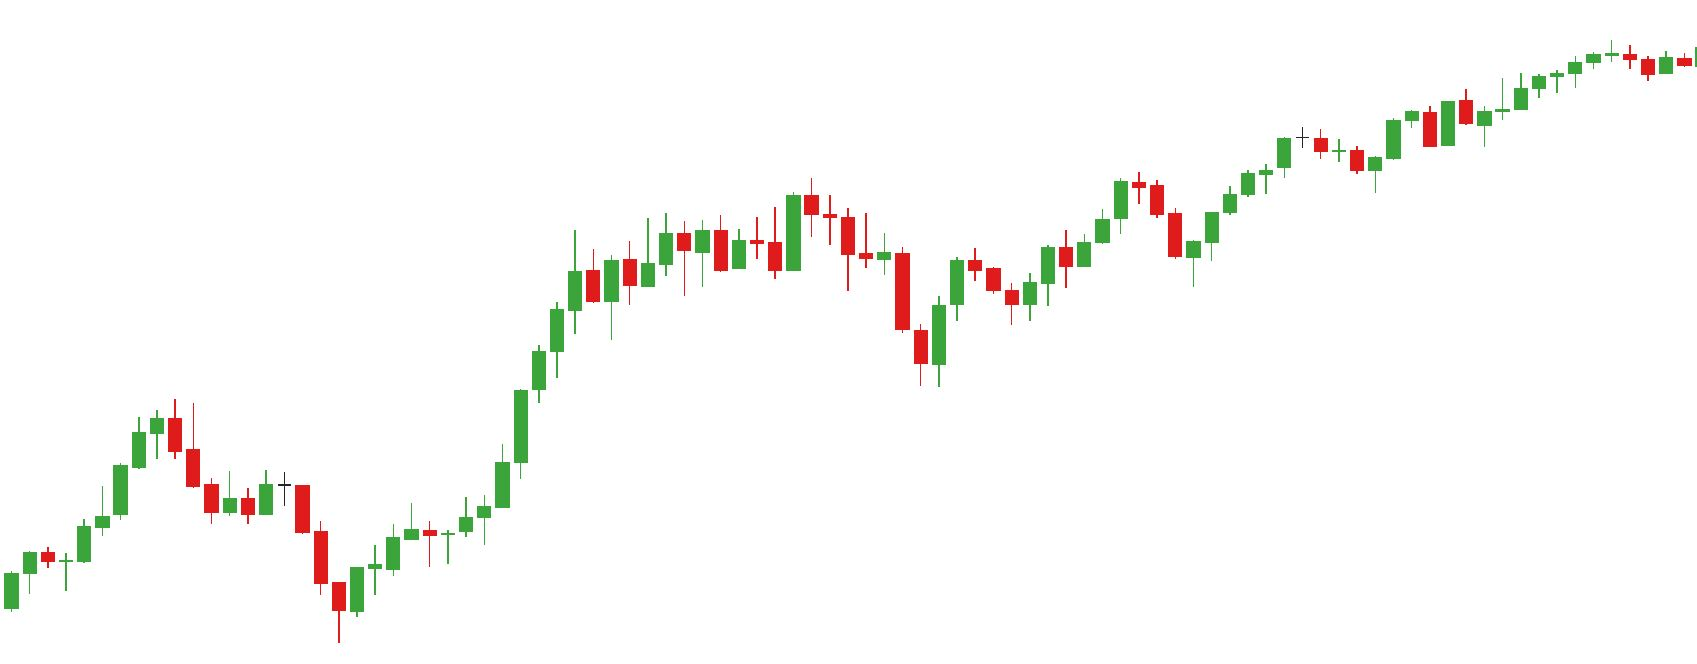buy: (598, 244, 948, 391)
